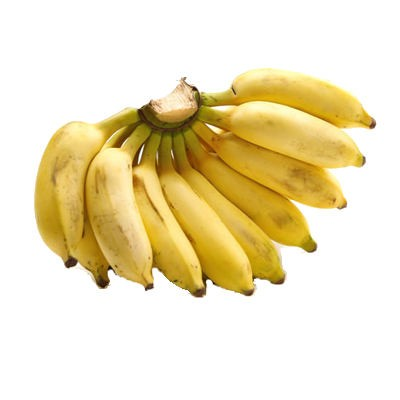banana: (33, 112, 111, 285), (88, 134, 155, 308), (160, 175, 255, 296), (220, 65, 385, 130), (224, 98, 368, 172), (216, 137, 347, 202), (264, 208, 332, 268)
